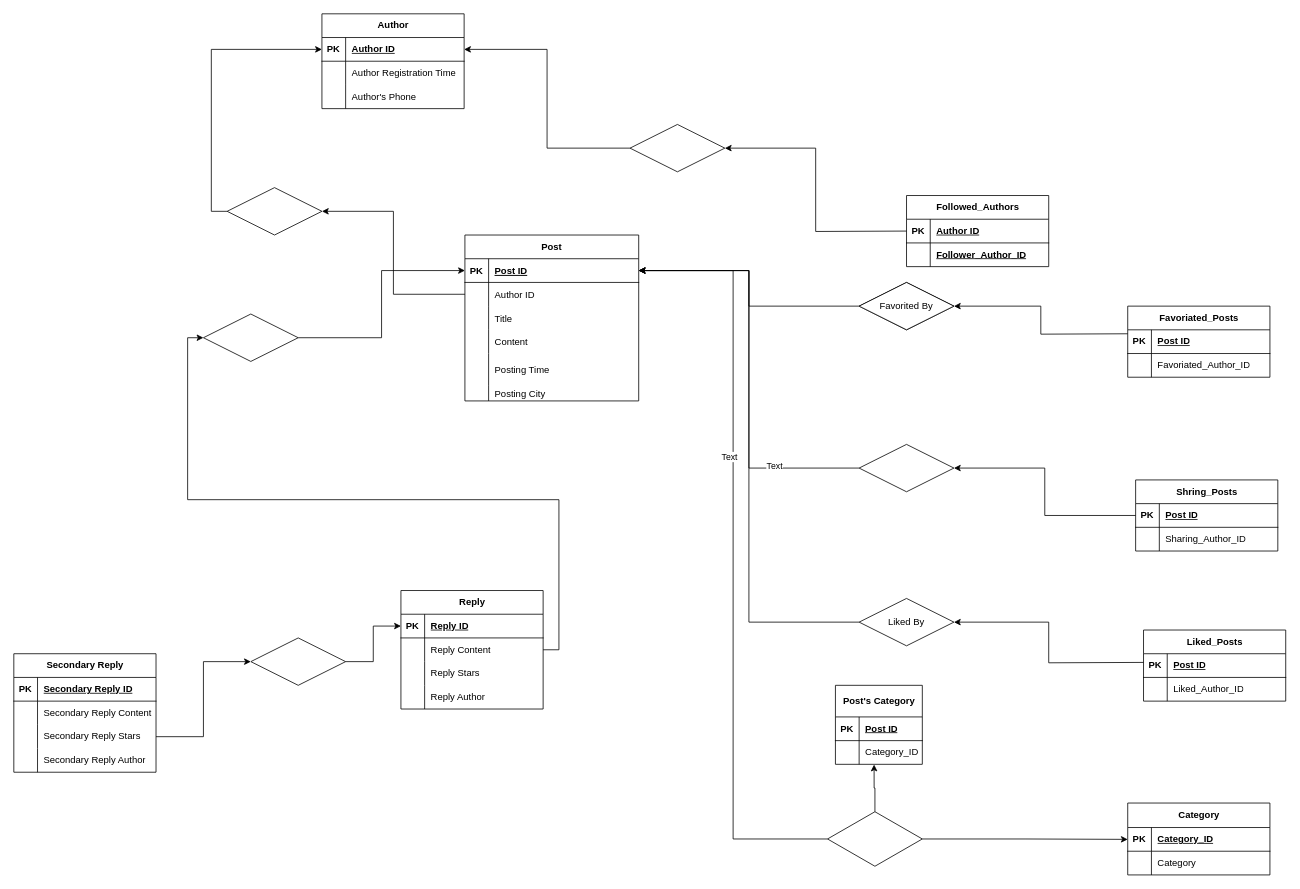
This 1300x889 diagram has some shape labels left out. Here are the shapes that lost their labels. From the top down, the centre of each, then its label:
At pixel 677 148: "Followed By".
At pixel 274 211: "Authored By".
At pixel 250 337: "First Reply To".
At pixel 906 468: "Shared By".
At pixel 298 661: "Second Reply To".
At pixel 874 838: "Post Categroy".
